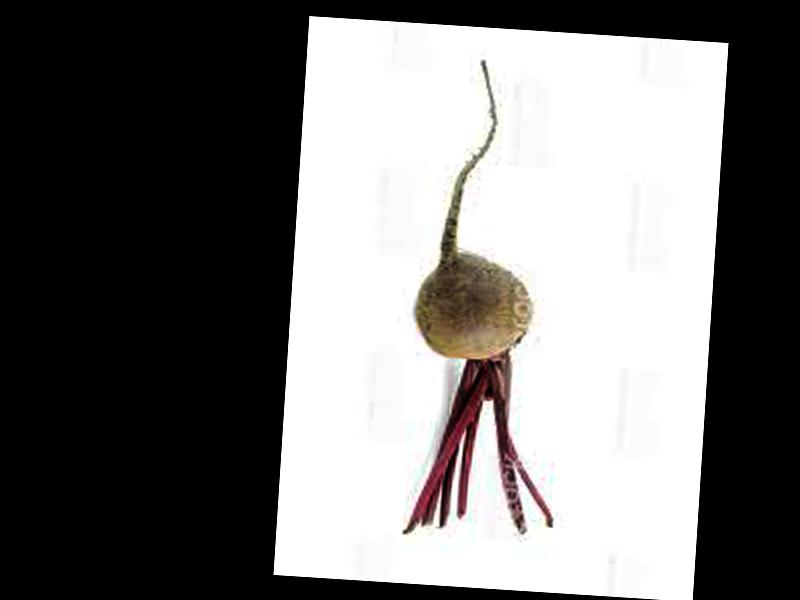Beet: (402, 54, 579, 541)
